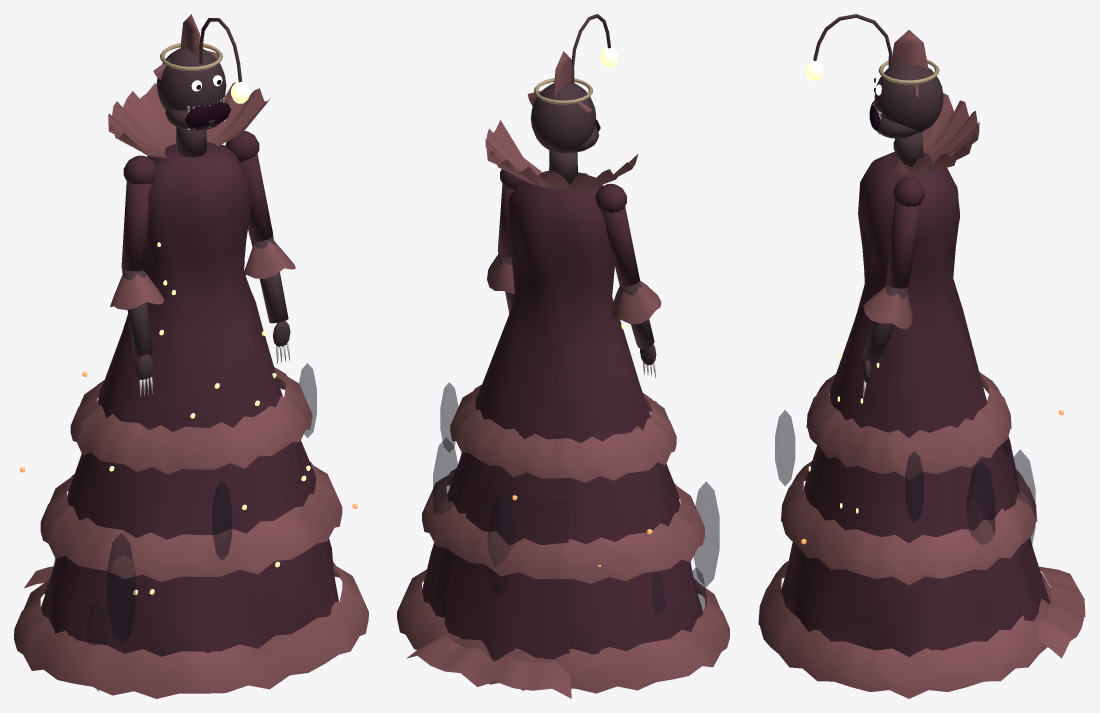
The model's file is angler_queen.glb.
3 renders of one model, left to right at view 1: azimuth 30°, elevation 25°; view 2: azimuth 150°, elevation 25°; view 3: azimuth 270°, elevation 25°, orthographic. The views are drawn at different scales.
Parts seen in each view (by area): view 1: Gown, Angler_Root_FinMembrane, Angler_Root_HSmoke, Head_DeepSkin, ArmA_EelSkin, ArmB_EelSkin, ArmA_DeepSkin, ArmB_DeepSkin, SleeveFinArmA, SleeveFinArmB, Mouth, Head_FinMembrane; view 2: Gown, Angler_Root_FinMembrane, EelTrain, Angler_Root_HSmoke, Head_DeepSkin, TrainFin, ArmA_EelSkin, SleeveFinArmA, ArmB_EelSkin, ArmA_DeepSkin, Head_FinMembrane, SleeveFinArmB; view 3: Gown, Angler_Root_FinMembrane, Angler_Root_HSmoke, Head_DeepSkin, TrainFin, ArmB_EelSkin, EelTrain, SleeveFinArmB, ArmB_DeepSkin, Head_FinMembrane.
Part boxes in pixels (x1,y1,x2,y2): Gown: (41, 142, 338, 656); Angler_Root_FinMembrane: (14, 82, 368, 698); Angler_Root_HSmoke: (51, 363, 316, 691); Head_DeepSkin: (156, 18, 241, 157); ArmA_EelSkin: (121, 155, 157, 271); ArmB_EelSkin: (225, 131, 272, 241); ArmA_DeepSkin: (122, 269, 153, 380); ArmB_DeepSkin: (251, 235, 290, 347); SleeveFinArmA: (110, 271, 164, 309); SleeveFinArmB: (244, 241, 295, 278); Mouth: (185, 101, 230, 127); Head_FinMembrane: (153, 14, 218, 79); Gown: (422, 170, 703, 654); Angler_Root_FinMembrane: (397, 120, 729, 693); EelTrain: (444, 477, 569, 690); Angler_Root_HSmoke: (433, 382, 719, 616); Head_DeepSkin: (530, 14, 610, 184); TrainFin: (406, 634, 571, 698); ArmA_EelSkin: (595, 183, 639, 286); SleeveFinArmA: (611, 280, 661, 323); ArmB_EelSkin: (497, 169, 523, 258); ArmA_DeepSkin: (620, 281, 656, 365); Head_FinMembrane: (527, 51, 591, 118); SleeveFinArmB: (487, 254, 514, 293); Gown: (781, 151, 1023, 657); Angler_Root_FinMembrane: (758, 93, 1051, 698); Angler_Root_HSmoke: (775, 410, 1035, 547); Head_DeepSkin: (813, 14, 943, 166); TrainFin: (1036, 566, 1085, 658); ArmB_EelSkin: (886, 177, 924, 288); EelTrain: (997, 437, 1050, 620); SleeveFinArmB: (863, 286, 912, 329); ArmB_DeepSkin: (862, 284, 907, 383); Head_FinMembrane: (891, 30, 928, 97).
Bounding box in the file's own units: 0.94 × 1.82 × 0.8675.
